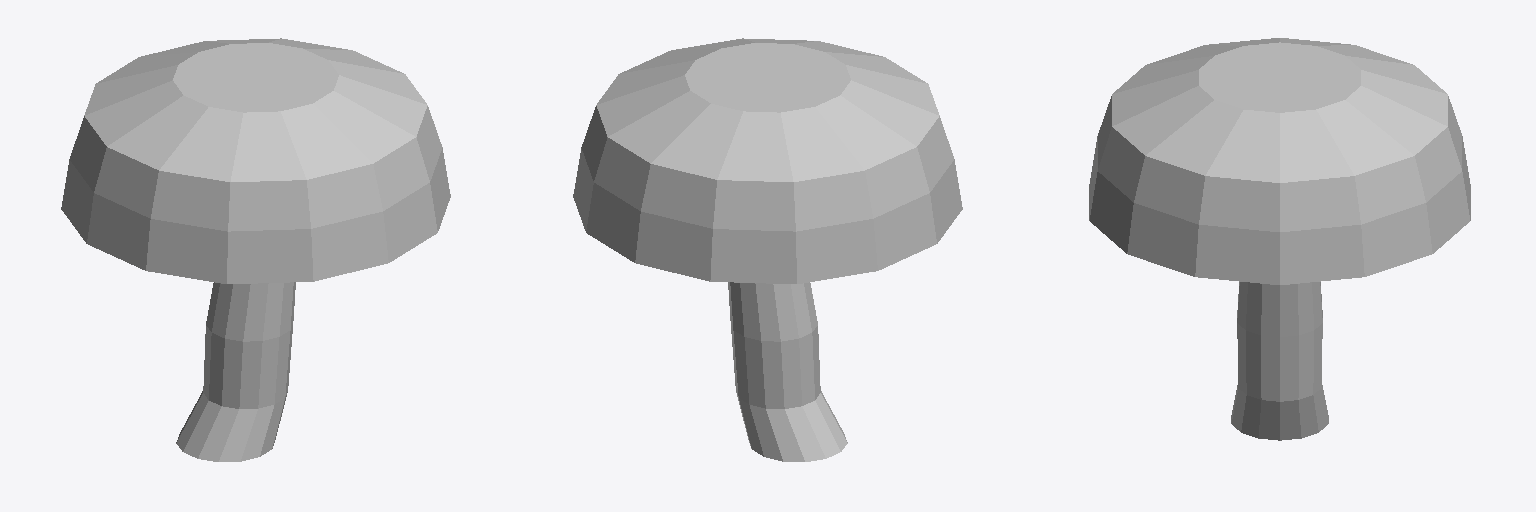
The model's file is Mushroom_001.obj.
The picture shows the model from 3 angles: view 1: azimuth 30°, elevation 25°; view 2: azimuth 150°, elevation 25°; view 3: azimuth 270°, elevation 25°; orthographic projection.
Parts seen in each view (by area): view 1: Mushroom_001 Mushrooms; view 2: Mushroom_001 Mushrooms; view 3: Mushroom_001 Mushrooms.
Boxes of the visible parts, x1=… form: Mushroom_001 Mushrooms: x1=61, y1=38, x2=450, y2=461; Mushroom_001 Mushrooms: x1=573, y1=38, x2=962, y2=461; Mushroom_001 Mushrooms: x1=1089, y1=38, x2=1470, y2=440.
Bounding box in the file's own units: 12.78 × 12.87 × 12.46.